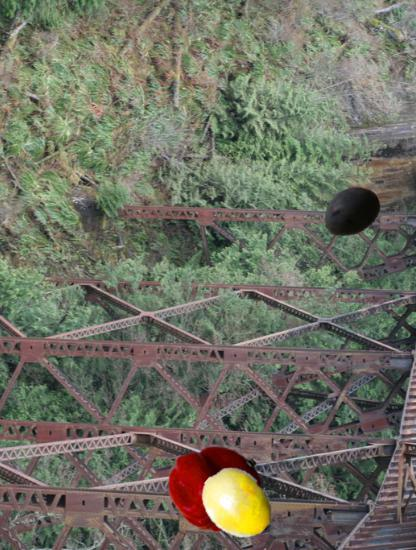Maracuja: (199, 465, 275, 541)
Pepper: (169, 439, 262, 532)
Plum: (321, 182, 381, 242)
